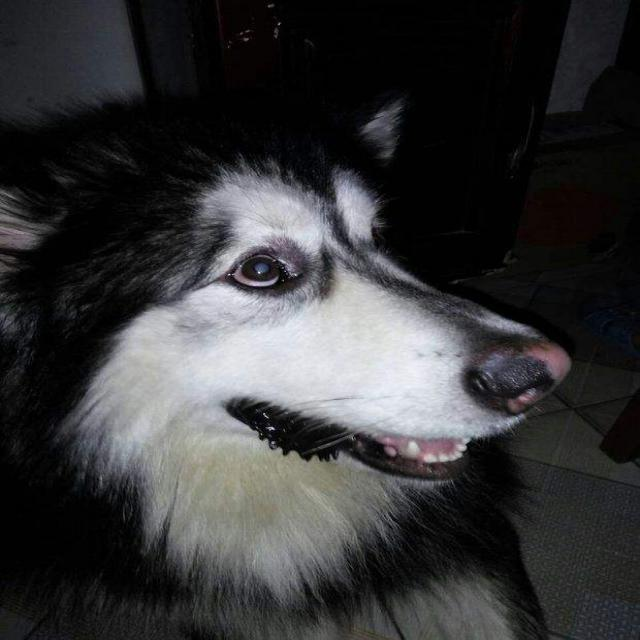eye: (225, 247, 296, 294)
